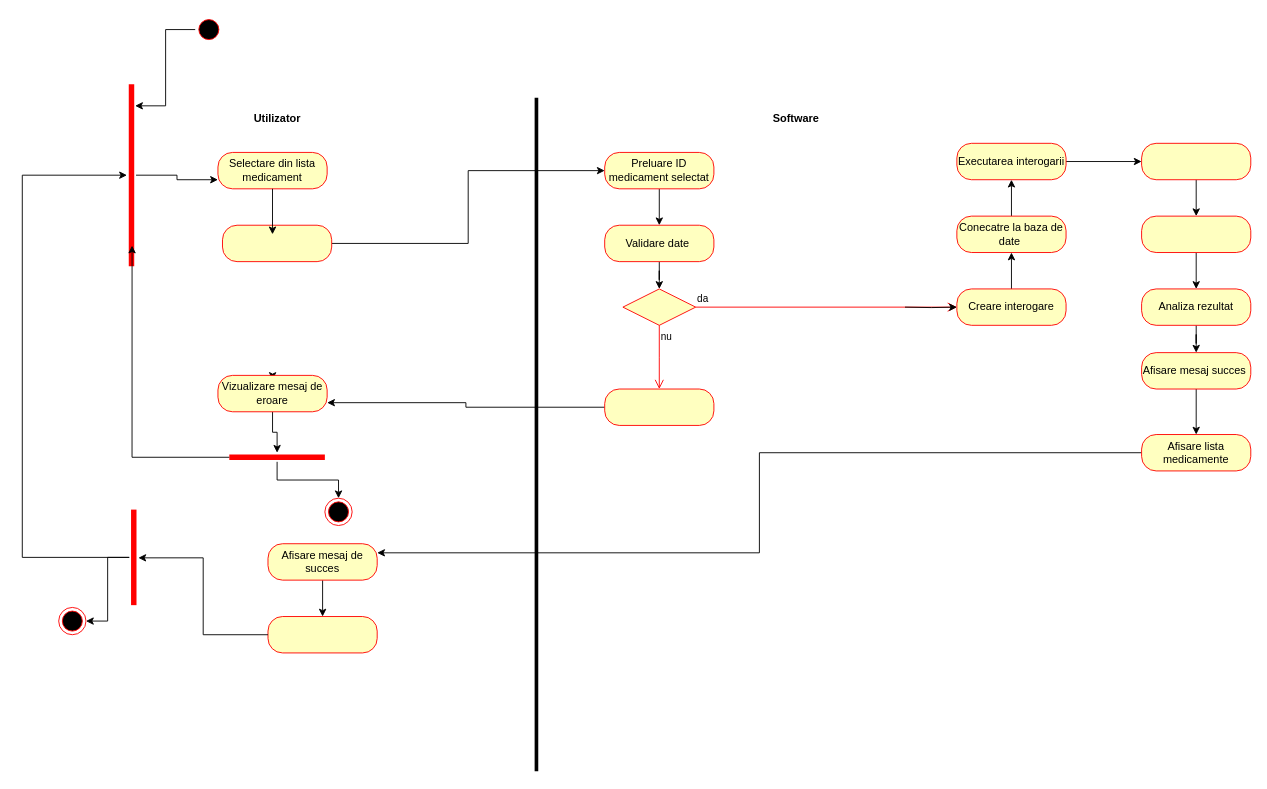
The diagram is 1267 pixels wide and 789 high, and some of its shapes have lost their labels. The box of each missing label's shape, as (x1, y1, x2, y2) in pixels:
Afisare lista medicament: (267, 616, 377, 653)
Afiseaza mesaj de eroare: (604, 388, 714, 425)
Click buton stergere: (222, 224, 332, 262)
Deconectare de la baza de date: (1141, 142, 1251, 180)
Preluare rezultate interogare: (1141, 215, 1251, 253)
